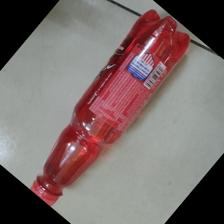Sting: (25, 10, 190, 208)
